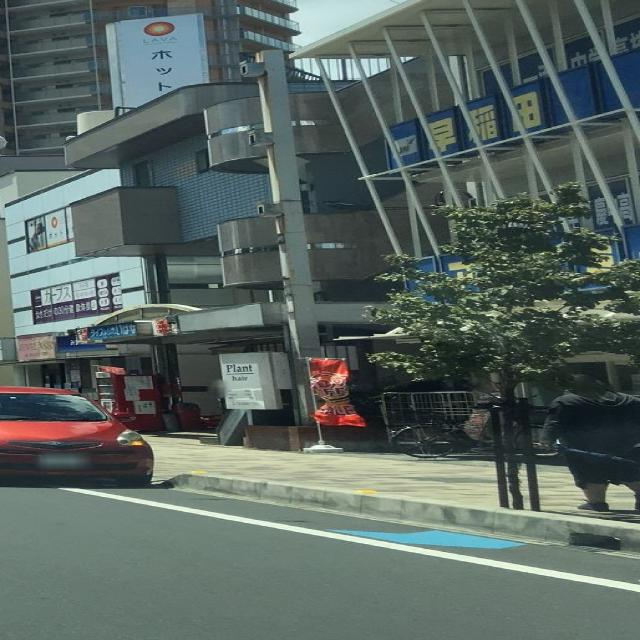dogwood: (360, 180, 640, 510)
